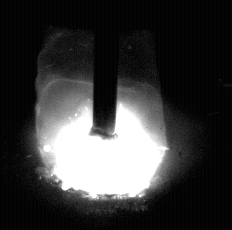arame: (94, 0, 118, 139)
poca: (36, 0, 168, 230)
